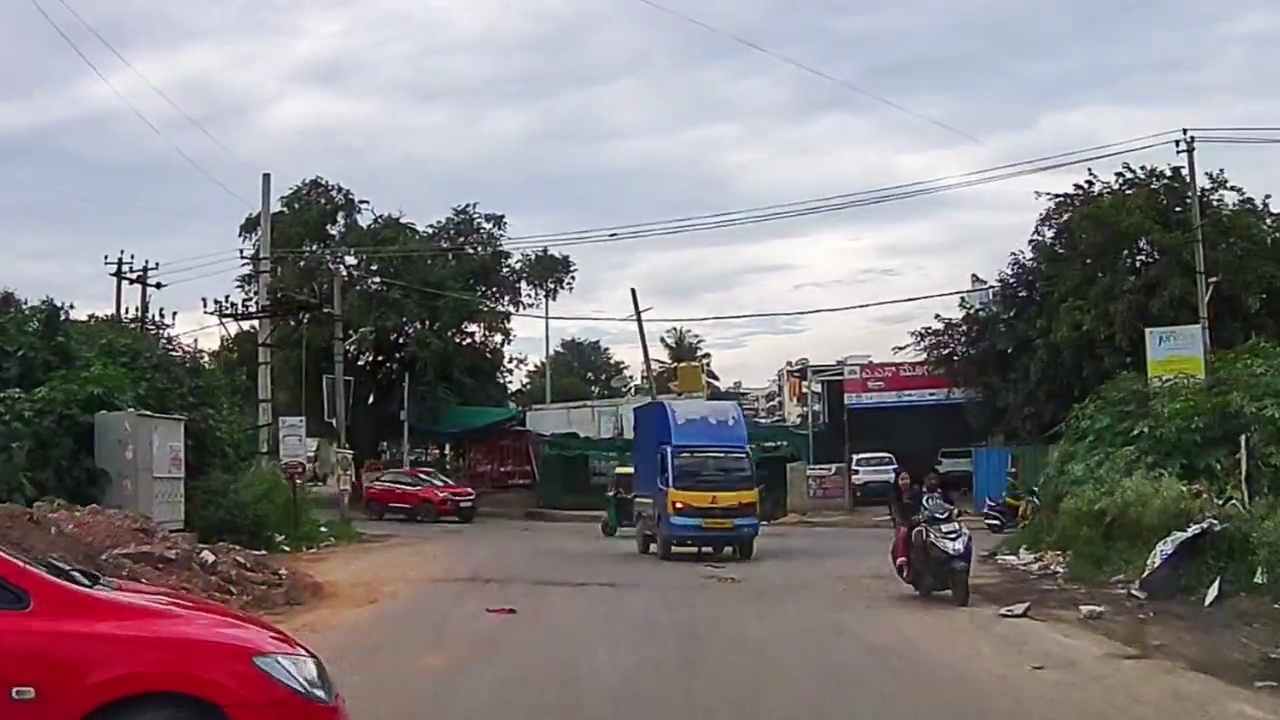garbage: (996, 538, 1066, 583)
